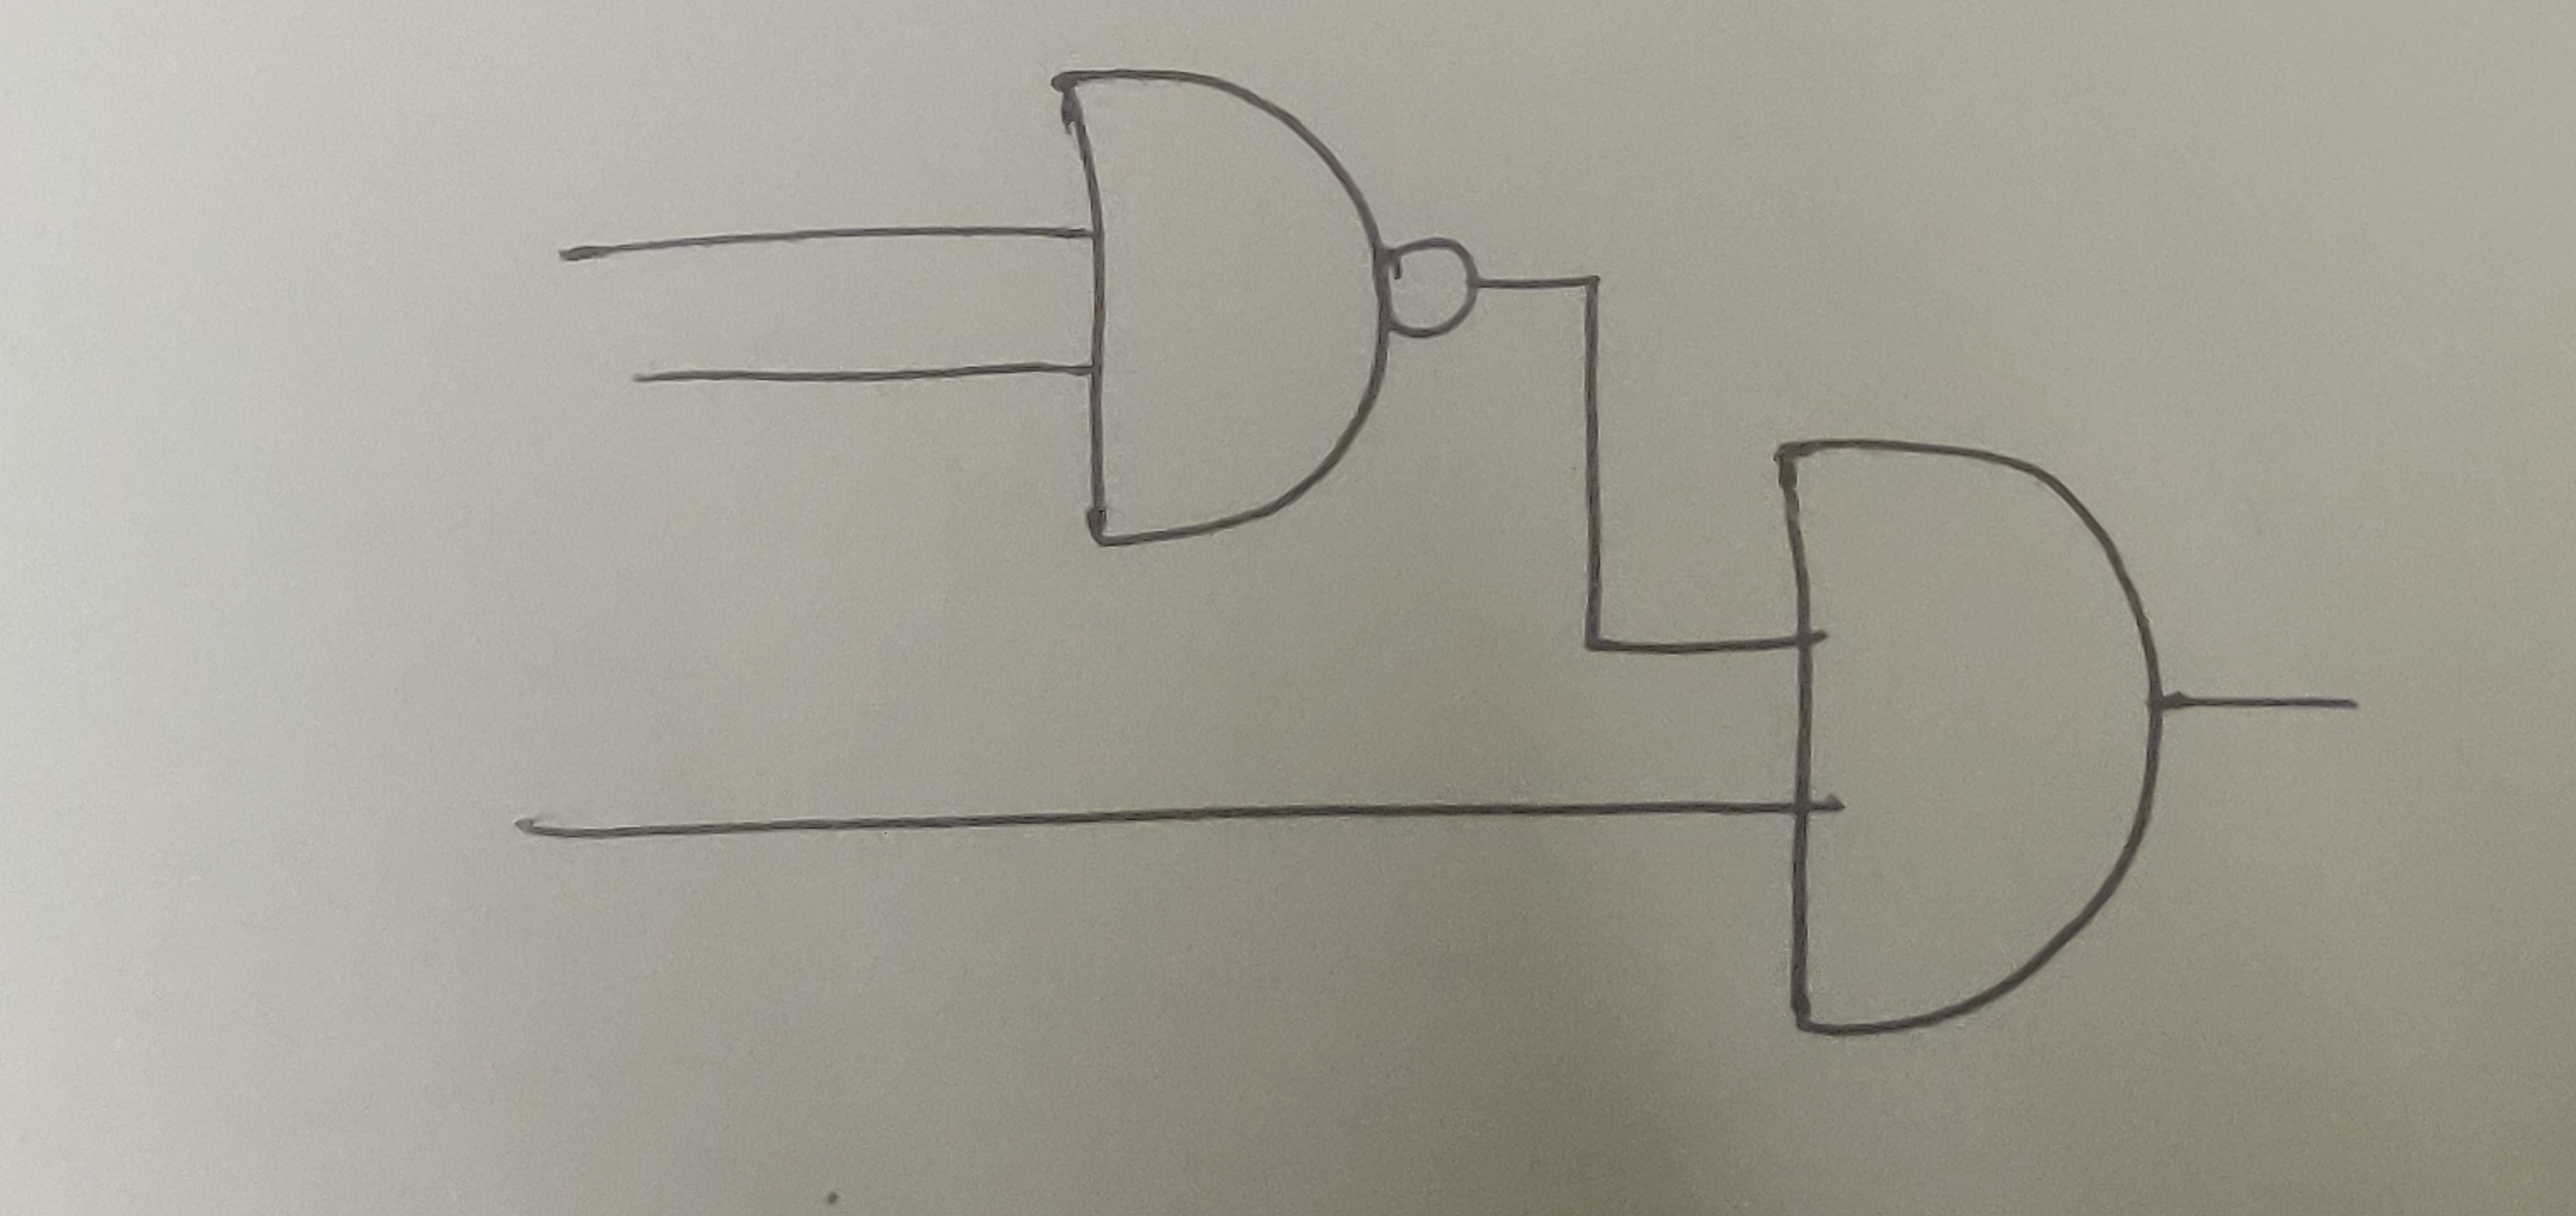and: (1768, 434, 2169, 1039), (1042, 66, 1396, 549)
not: (1383, 233, 1488, 345)
